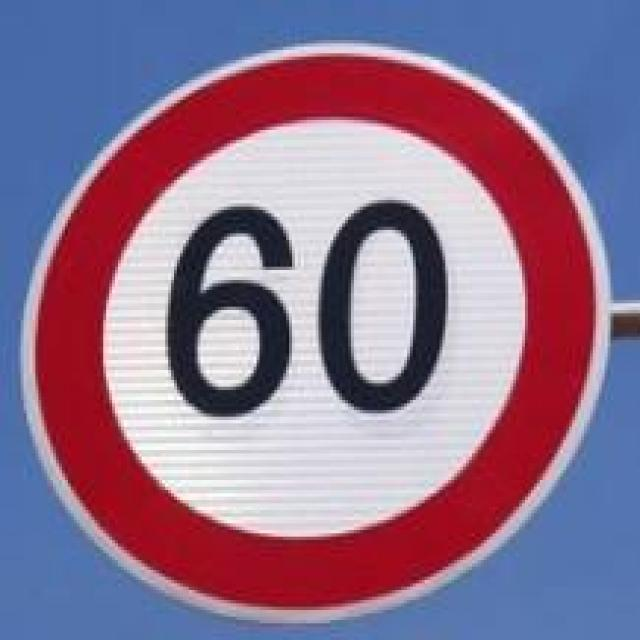traffic_sign: (21, 37, 610, 620)
